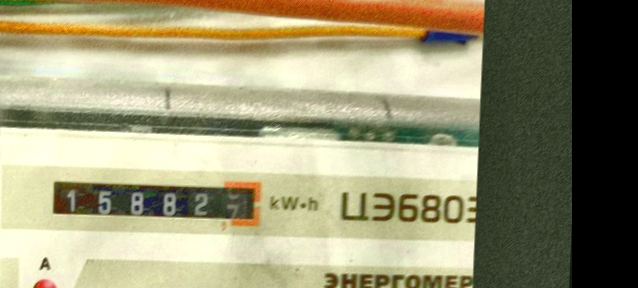1: (65, 185, 79, 214)
2: (192, 191, 210, 218)
5: (96, 188, 114, 219)
7: (225, 202, 239, 219)
8: (161, 190, 178, 219), (128, 190, 145, 218)
screen: (41, 165, 269, 235)
